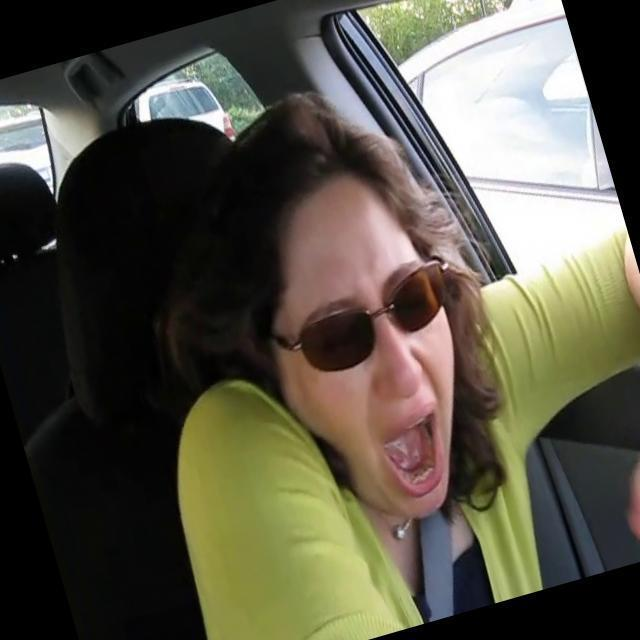open-mouth: (382, 406, 444, 496)
